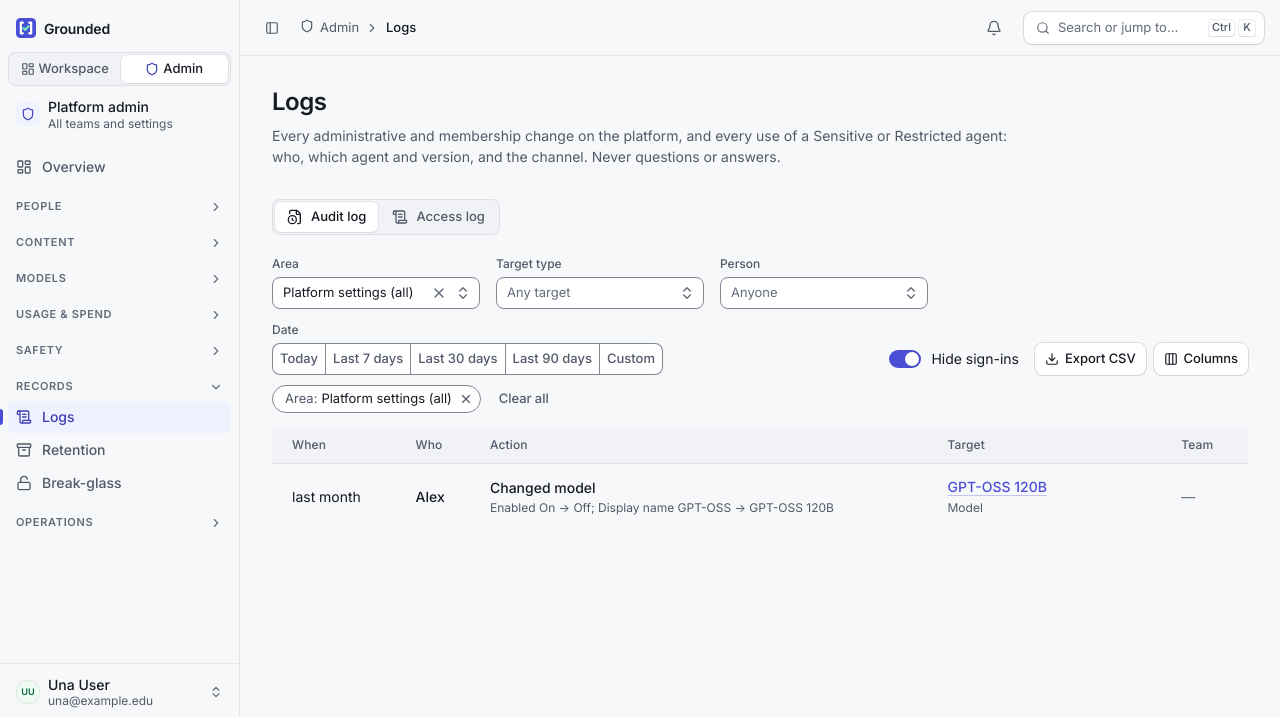
admin logs › hides sign-ins by default, filters in the URL and opens an entry with its diff
Expected: the text "Changed model" is shown, [490,479,596,496]
Click the switch named "Hide sign-ins". click: coordinates (905, 359)
box: [889,350,921,368]
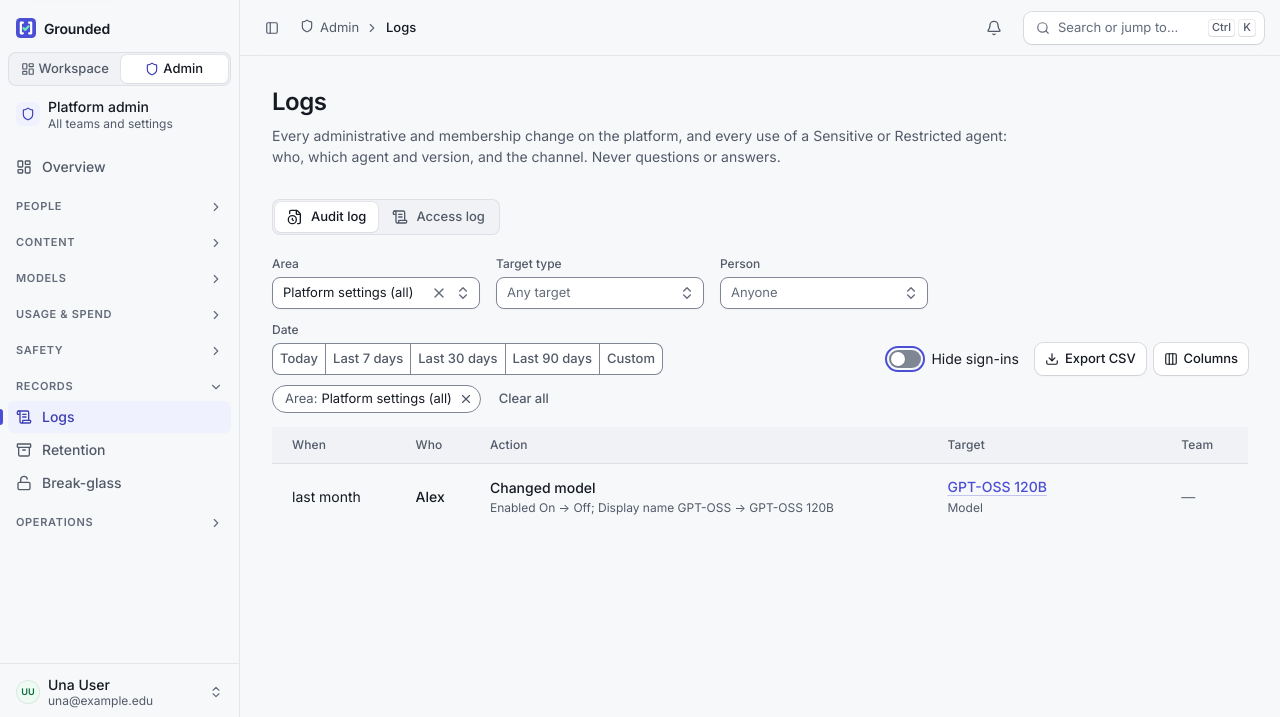
Click the button "Changed model". click: coordinates (543, 487)
box: [490,477,834,516]
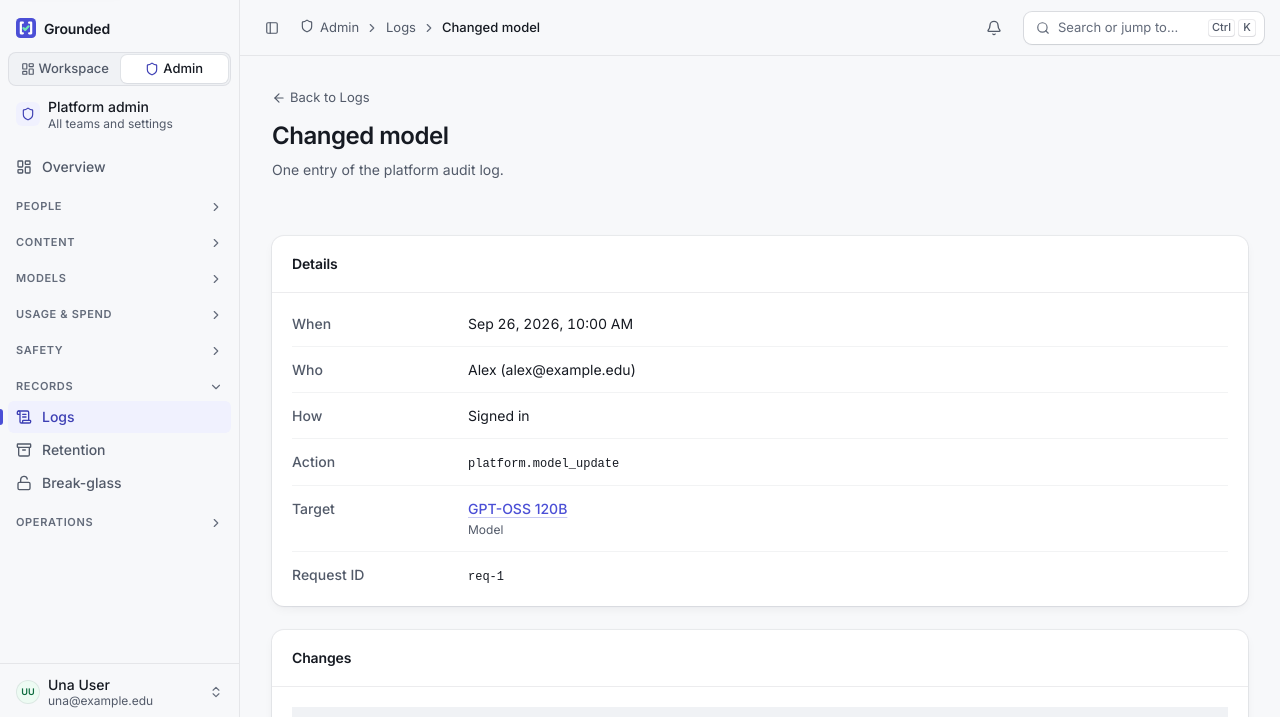
Now the heading "Changes" is shown, box [292,648,351,666]
Now the text "req-1" is shown, box [468,570,504,584]
